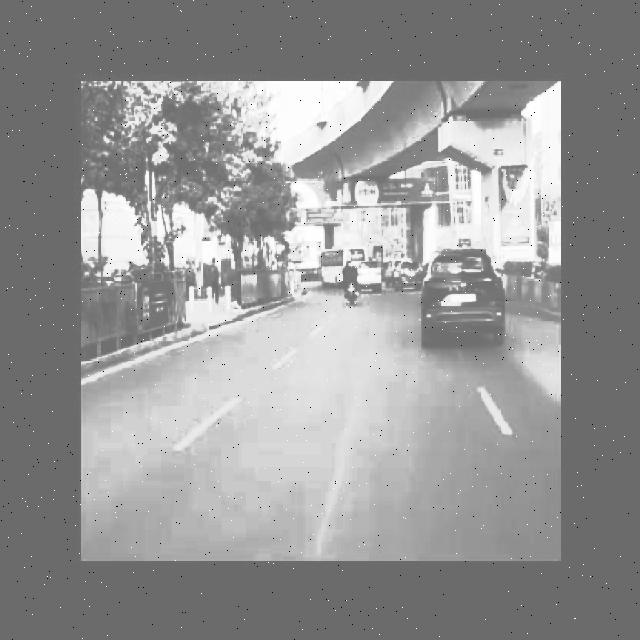Car: (417, 235, 511, 348), (357, 252, 379, 283)
